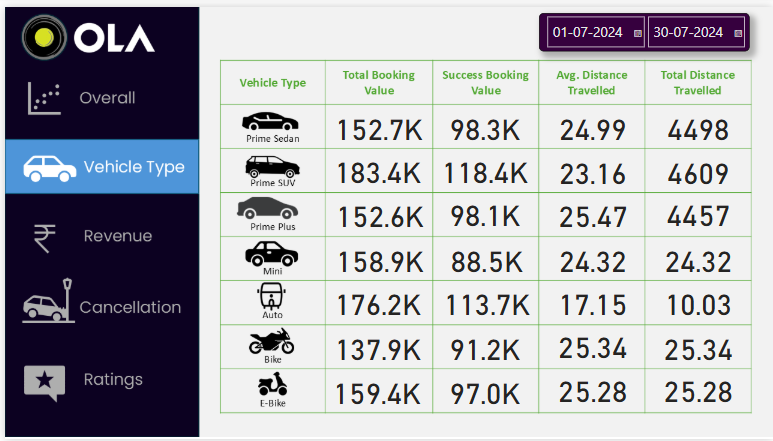

This screenshot's page, from the dashboard's own definition file:
{"tool":"powerbi","page":{"name":"Vehicle Type","canvas":[1280,720],"ordinal":1},"visuals":[{"type":"actionButton","box":[0,334.5,323.1,96.4],"z":0},{"type":"actionButton","box":[1.4,569.8,323.1,104.9],"z":1000},{"type":"actionButton","box":[1.4,445,323.1,107.7],"z":2000},{"type":"actionButton","box":[0,103.5,323.1,99.2],"z":3000},{"type":"card","fields":{"Values":["Sum(Bookings-20000-Rows.Booking_Value)"]},"box":[532.9,163,180,72.3],"z":4000},{"type":"card","fields":{"Values":["Sum(Bookings-20000-Rows.Booking_Value)"]},"box":[532.5,235.2,179.7,72.2],"z":5000},{"type":"card","fields":{"Values":["Sum(Bookings-20000-Rows.Booking_Value)"]},"box":[534.2,309.1,179.7,72.2],"z":6000},{"type":"card","fields":{"Values":["Sum(Bookings-20000-Rows.Booking_Value)"]},"box":[534.2,383,179.7,72.2],"z":7000},{"type":"card","fields":{"Values":["Sum(Bookings-20000-Rows.Booking_Value)"]},"box":[532.5,455.2,179.7,72.2],"z":8000},{"type":"card","fields":{"Values":["Sum(Bookings-20000-Rows.Booking_Value)"]},"box":[532.5,530.8,179.7,72.2],"z":9000},{"type":"card","fields":{"Values":["Sum(Bookings-20000-Rows.Booking_Value)"]},"box":[530.8,603,179.7,72.2],"z":10000},{"type":"card","fields":{"Values":["Sum(Bookings-20000-Rows.Booking_Value)"]},"box":[710.6,162.9,179.7,72.2],"z":11000},{"type":"card","fields":{"Values":["Sum(Bookings-20000-Rows.Booking_Value)"]},"box":[710.6,235.2,179.7,72.2],"z":12000},{"type":"card","fields":{"Values":["Sum(Bookings-20000-Rows.Booking_Value)"]},"box":[710.6,307.4,179.7,72.2],"z":13000},{"type":"card","fields":{"Values":["Sum(Bookings-20000-Rows.Booking_Value)"]},"box":[713.9,383,179.7,72.2],"z":14000},{"type":"card","fields":{"Values":["Sum(Bookings-20000-Rows.Booking_Value)"]},"box":[713.9,455.2,179.7,72.2],"z":15000},{"type":"card","fields":{"Values":["Sum(Bookings-20000-Rows.Booking_Value)"]},"box":[710.6,530.8,179.7,72.2],"z":16000},{"type":"card","fields":{"Values":["Sum(Bookings-20000-Rows.Booking_Value)"]},"box":[710.6,603,179.7,72.2],"z":17000},{"type":"card","fields":{"Values":["Avg(Bookings-20000-Rows.Ride_Distance)"]},"box":[890.3,162.9,179.7,72.2],"z":18000},{"type":"card","fields":{"Values":["Avg(Bookings-20000-Rows.Ride_Distance)"]},"box":[890.3,236.9,179.7,72.2],"z":19000},{"type":"card","fields":{"Values":["Avg(Bookings-20000-Rows.Ride_Distance)"]},"box":[890.3,307.4,179.7,75.6],"z":20000},{"type":"card","fields":{"Values":["Avg(Bookings-20000-Rows.Ride_Distance)"]},"box":[890.3,383,179.7,72.2],"z":21000},{"type":"card","fields":{"Values":["Avg(Bookings-20000-Rows.Ride_Distance)"]},"box":[890.3,455.2,179.7,72.2],"z":22000},{"type":"card","fields":{"Values":["Avg(Bookings-20000-Rows.Ride_Distance)"]},"box":[890.3,527.5,179.7,72.2],"z":23000},{"type":"card","fields":{"Values":["Avg(Bookings-20000-Rows.Ride_Distance)"]},"box":[890.3,599.7,179.7,72.2],"z":24000},{"type":"card","fields":{"Values":["Sum(Bookings-20000-Rows.Ride_Distance)"]},"box":[1070,162.9,171.3,72.2],"z":25000},{"type":"card","fields":{"Values":["Sum(Bookings-20000-Rows.Ride_Distance)"]},"box":[1070,236.9,171.3,72.2],"z":26000},{"type":"card","fields":{"Values":["Sum(Bookings-20000-Rows.Ride_Distance)"]},"box":[1070,307.4,171.3,72.2],"z":27000},{"type":"card","fields":{"Values":["Avg(Bookings-20000-Rows.Ride_Distance)"]},"box":[1070,383,171.3,72.2],"z":28000},{"type":"card","fields":{"Values":["Avg(Bookings-20000-Rows.Ride_Distance)"]},"box":[1070,455.2,171.3,72.2],"z":29000},{"type":"card","fields":{"Values":["Avg(Bookings-20000-Rows.Ride_Distance)"]},"box":[1070,530.8,171.3,72.2],"z":30000},{"type":"card","fields":{"Values":["Avg(Bookings-20000-Rows.Ride_Distance)"]},"box":[1070,599.7,171.3,72.2],"z":31000},{"type":"slicer","title":"DATE","fields":{"Values":["Bookings-20000-Rows.Date"]},"box":[890.1,9.9,351.5,63.8],"z":32000}]}

Visuals, with their boxes on the page's 1280x720 design canvas (x1, y1, x2, y2). These are canvas units, not pixel positions in the 773x441 screenshot, which may show the page scaled, cropped or inside an application window:
actionButton: [left=0, top=334, right=323, bottom=431]
actionButton: [left=1, top=570, right=324, bottom=675]
actionButton: [left=1, top=445, right=324, bottom=553]
actionButton: [left=0, top=104, right=323, bottom=203]
card - Sum(Bookings-20000-Rows.Booking_Value): [left=533, top=163, right=713, bottom=235]
card - Sum(Bookings-20000-Rows.Booking_Value): [left=532, top=235, right=712, bottom=307]
card - Sum(Bookings-20000-Rows.Booking_Value): [left=534, top=309, right=714, bottom=381]
card - Sum(Bookings-20000-Rows.Booking_Value): [left=534, top=383, right=714, bottom=455]
card - Sum(Bookings-20000-Rows.Booking_Value): [left=532, top=455, right=712, bottom=527]
card - Sum(Bookings-20000-Rows.Booking_Value): [left=532, top=531, right=712, bottom=603]
card - Sum(Bookings-20000-Rows.Booking_Value): [left=531, top=603, right=710, bottom=675]
card - Sum(Bookings-20000-Rows.Booking_Value): [left=711, top=163, right=890, bottom=235]
card - Sum(Bookings-20000-Rows.Booking_Value): [left=711, top=235, right=890, bottom=307]
card - Sum(Bookings-20000-Rows.Booking_Value): [left=711, top=307, right=890, bottom=380]
card - Sum(Bookings-20000-Rows.Booking_Value): [left=714, top=383, right=894, bottom=455]
card - Sum(Bookings-20000-Rows.Booking_Value): [left=714, top=455, right=894, bottom=527]
card - Sum(Bookings-20000-Rows.Booking_Value): [left=711, top=531, right=890, bottom=603]
card - Sum(Bookings-20000-Rows.Booking_Value): [left=711, top=603, right=890, bottom=675]
card - Avg(Bookings-20000-Rows.Ride_Distance): [left=890, top=163, right=1070, bottom=235]
card - Avg(Bookings-20000-Rows.Ride_Distance): [left=890, top=237, right=1070, bottom=309]
card - Avg(Bookings-20000-Rows.Ride_Distance): [left=890, top=307, right=1070, bottom=383]
card - Avg(Bookings-20000-Rows.Ride_Distance): [left=890, top=383, right=1070, bottom=455]
card - Avg(Bookings-20000-Rows.Ride_Distance): [left=890, top=455, right=1070, bottom=527]
card - Avg(Bookings-20000-Rows.Ride_Distance): [left=890, top=528, right=1070, bottom=600]
card - Avg(Bookings-20000-Rows.Ride_Distance): [left=890, top=600, right=1070, bottom=672]
card - Sum(Bookings-20000-Rows.Ride_Distance): [left=1070, top=163, right=1241, bottom=235]
card - Sum(Bookings-20000-Rows.Ride_Distance): [left=1070, top=237, right=1241, bottom=309]
card - Sum(Bookings-20000-Rows.Ride_Distance): [left=1070, top=307, right=1241, bottom=380]
card - Avg(Bookings-20000-Rows.Ride_Distance): [left=1070, top=383, right=1241, bottom=455]
card - Avg(Bookings-20000-Rows.Ride_Distance): [left=1070, top=455, right=1241, bottom=527]
card - Avg(Bookings-20000-Rows.Ride_Distance): [left=1070, top=531, right=1241, bottom=603]
card - Avg(Bookings-20000-Rows.Ride_Distance): [left=1070, top=600, right=1241, bottom=672]
"DATE" slicer: [left=890, top=10, right=1242, bottom=74]
